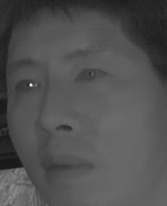eye: (74, 65, 108, 87), (12, 76, 47, 97)
mouth: (37, 147, 94, 184)
